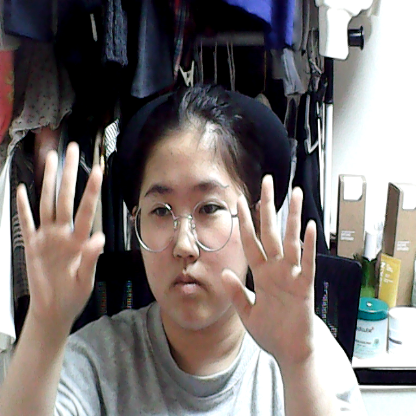Finger_5: (217, 163, 330, 365), (6, 132, 114, 321)
